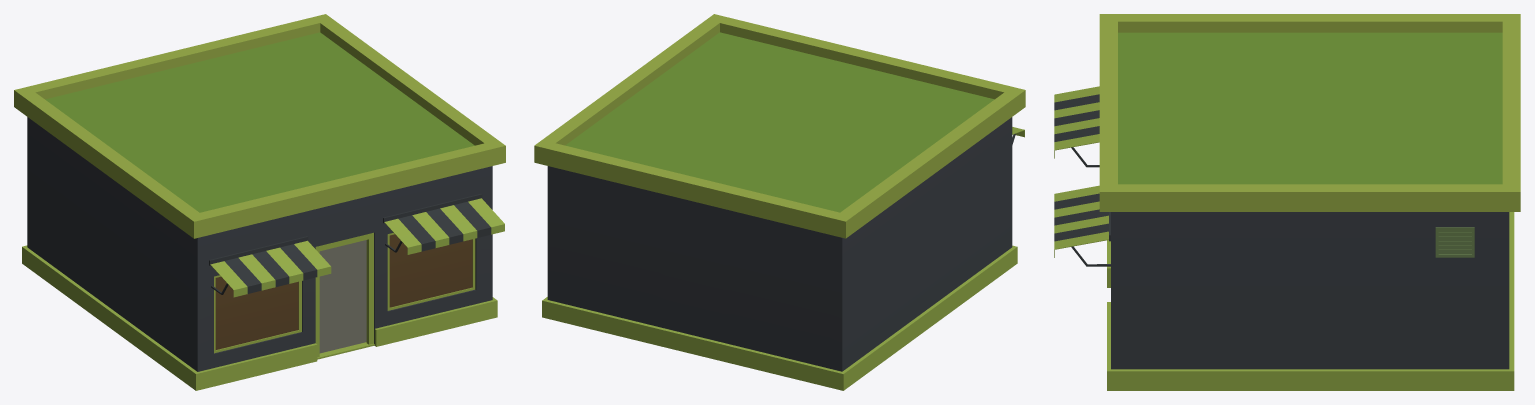
The model's file is SmallHouse_01.fbx.
The picture shows the model from 3 angles, left to right: view 1: azimuth 30°, elevation 25°; view 2: azimuth 150°, elevation 25°; view 3: azimuth 270°, elevation 25°; orthographic projection. The views are drawn at different scales.
Visible parts, largest first — view 1: SmallHouse_01; view 2: SmallHouse_01; view 3: SmallHouse_01.
Boxes of the visible parts, x1=… form: SmallHouse_01: x1=14, y1=14, x2=505, y2=390; SmallHouse_01: x1=534, y1=14, x2=1025, y2=390; SmallHouse_01: x1=1054, y1=14, x2=1520, y2=390.
Bounding box in the file's own units: 6.34 × 3.36 × 7.03.
